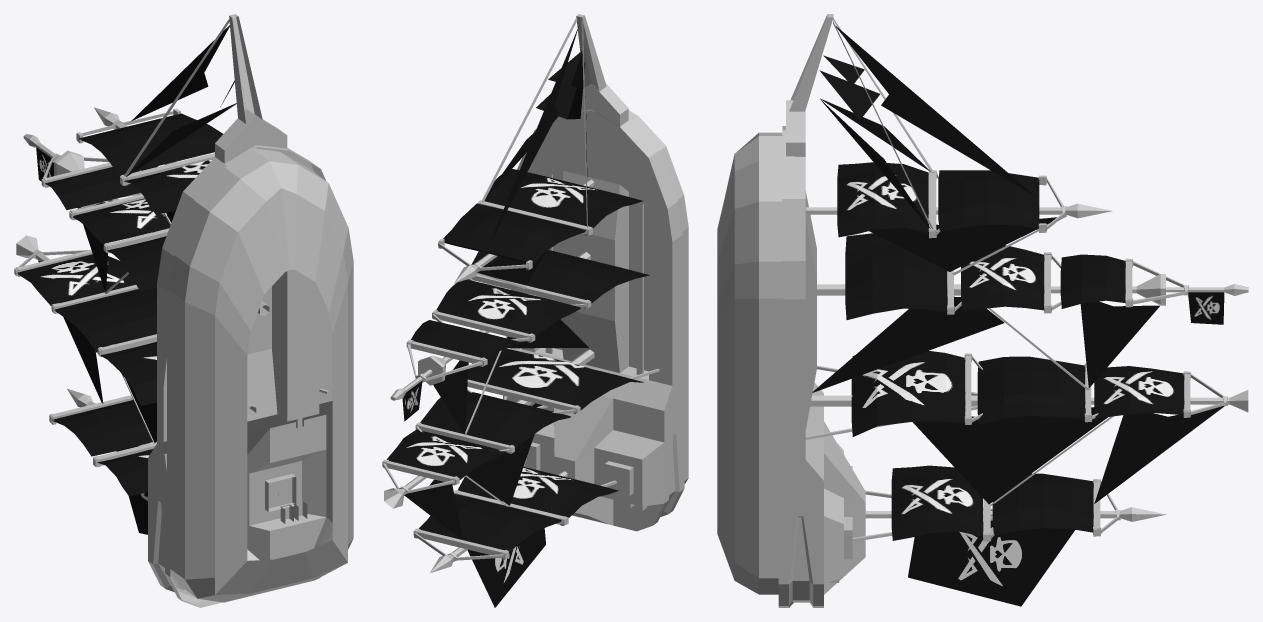
The model's file is main_6_0.fbx.
3 views of the same model, side by side, from view 1: azimuth 30°, elevation 25°; view 2: azimuth 150°, elevation 25°; view 3: azimuth 270°, elevation 25° (orthographic). The views are drawn at different scales.
Visible parts, largest first — view 1: Cube.606; view 2: Cube.606; view 3: Cube.606.
Part boxes in pixels (x1,y1,x2,y2): Cube.606: [14, 14, 353, 607]; Cube.606: [382, 14, 688, 607]; Cube.606: [717, 14, 1248, 607].
Size of the model in its own units: 571 by 1791 by 1459.
